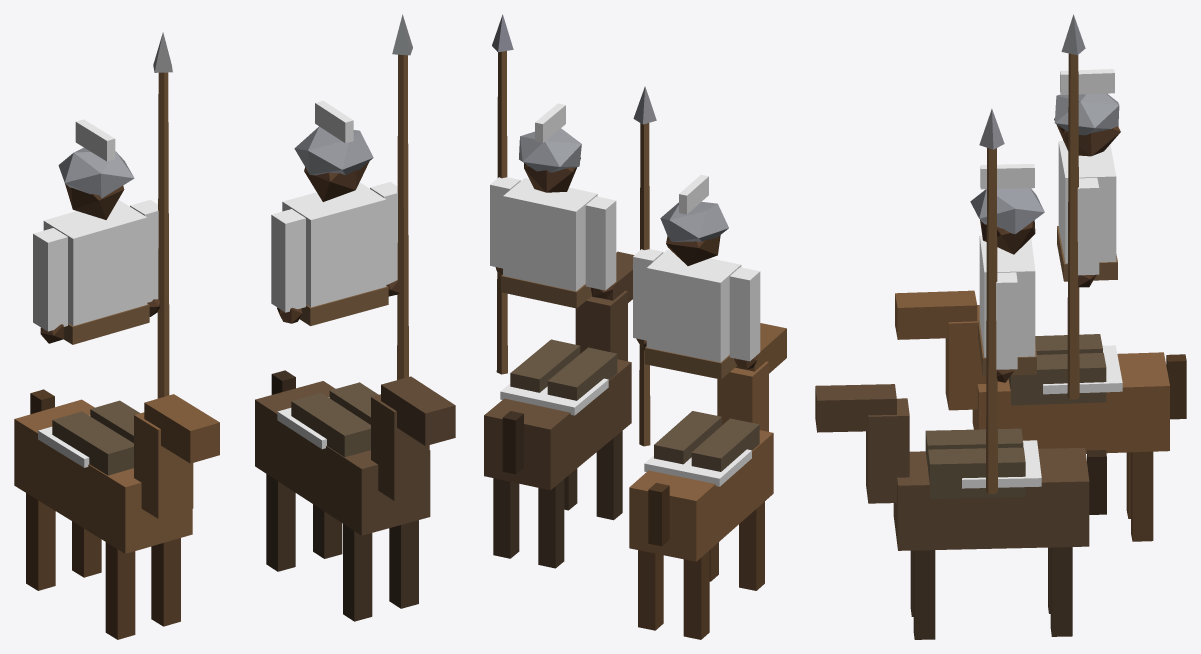
The model's file is Horseman.glb.
The picture shows the model from 3 angles, left to right: view 1: azimuth 30°, elevation 25°; view 2: azimuth 150°, elevation 25°; view 3: azimuth 270°, elevation 25°; orthographic projection. The views are drawn at different scales.
Parts seen in each view (by area): view 1: Units_Horseman; view 2: Units_Horseman; view 3: Units_Horseman.
Part boxes in pixels (x1,y1,x2,y2): Units_Horseman: (14, 14, 455, 639); Units_Horseman: (484, 14, 786, 639); Units_Horseman: (815, 14, 1186, 639).
Size of the model in its own units: 0.2345 by 0.375 by 0.2326.
